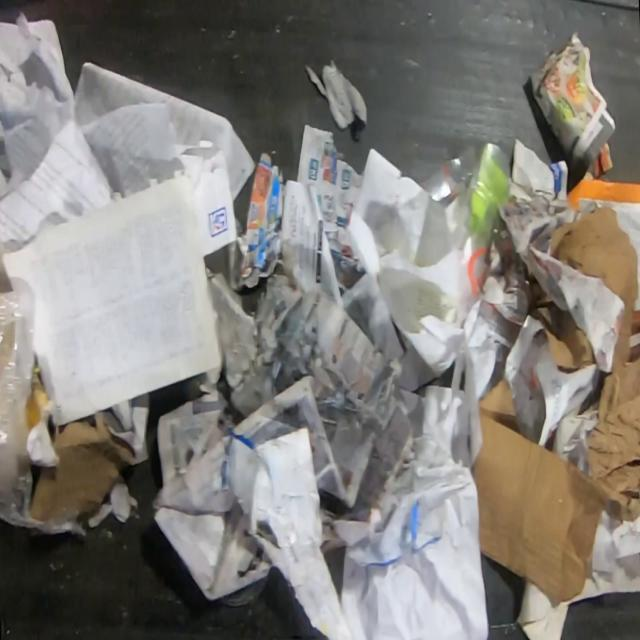cardboard: (470, 380, 604, 606), (549, 206, 639, 376), (30, 409, 136, 522), (522, 252, 601, 377), (588, 357, 640, 522)
rigid_plastic: (418, 142, 514, 315)
soft_plastic: (0, 286, 44, 528)
